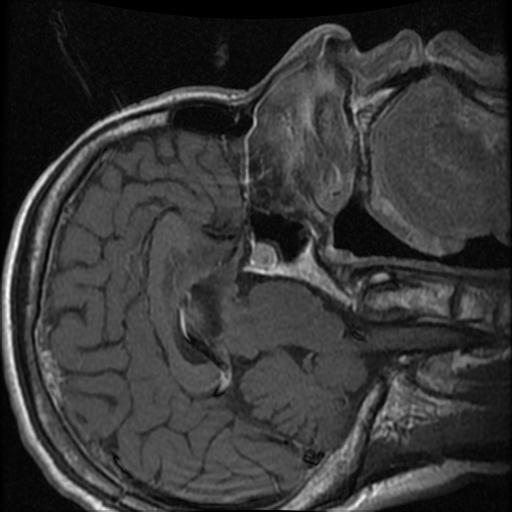pituitary tumour: (248, 239, 280, 276)
